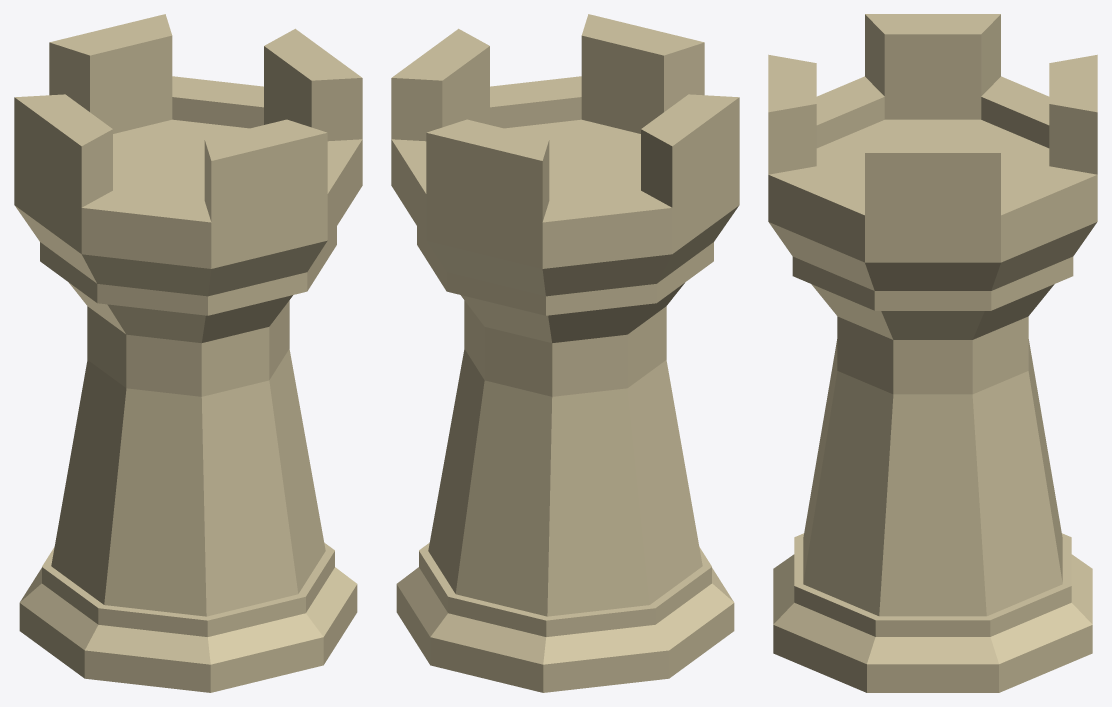
Rendered from rook.fbx.
3 views of the same model, side by side, from view 1: azimuth 30°, elevation 25°; view 2: azimuth 150°, elevation 25°; view 3: azimuth 270°, elevation 25° (orthographic).
Visible parts, largest first — view 1: Cylinder; view 2: Cylinder; view 3: Cylinder.
Part boxes in pixels (left/top/right/bottom): Cylinder: left=14, top=14, right=362, bottom=692; Cylinder: left=391, top=14, right=739, bottom=692; Cylinder: left=768, top=14, right=1097, bottom=692.
Size of the model in its own units: 130 by 236 by 130.
